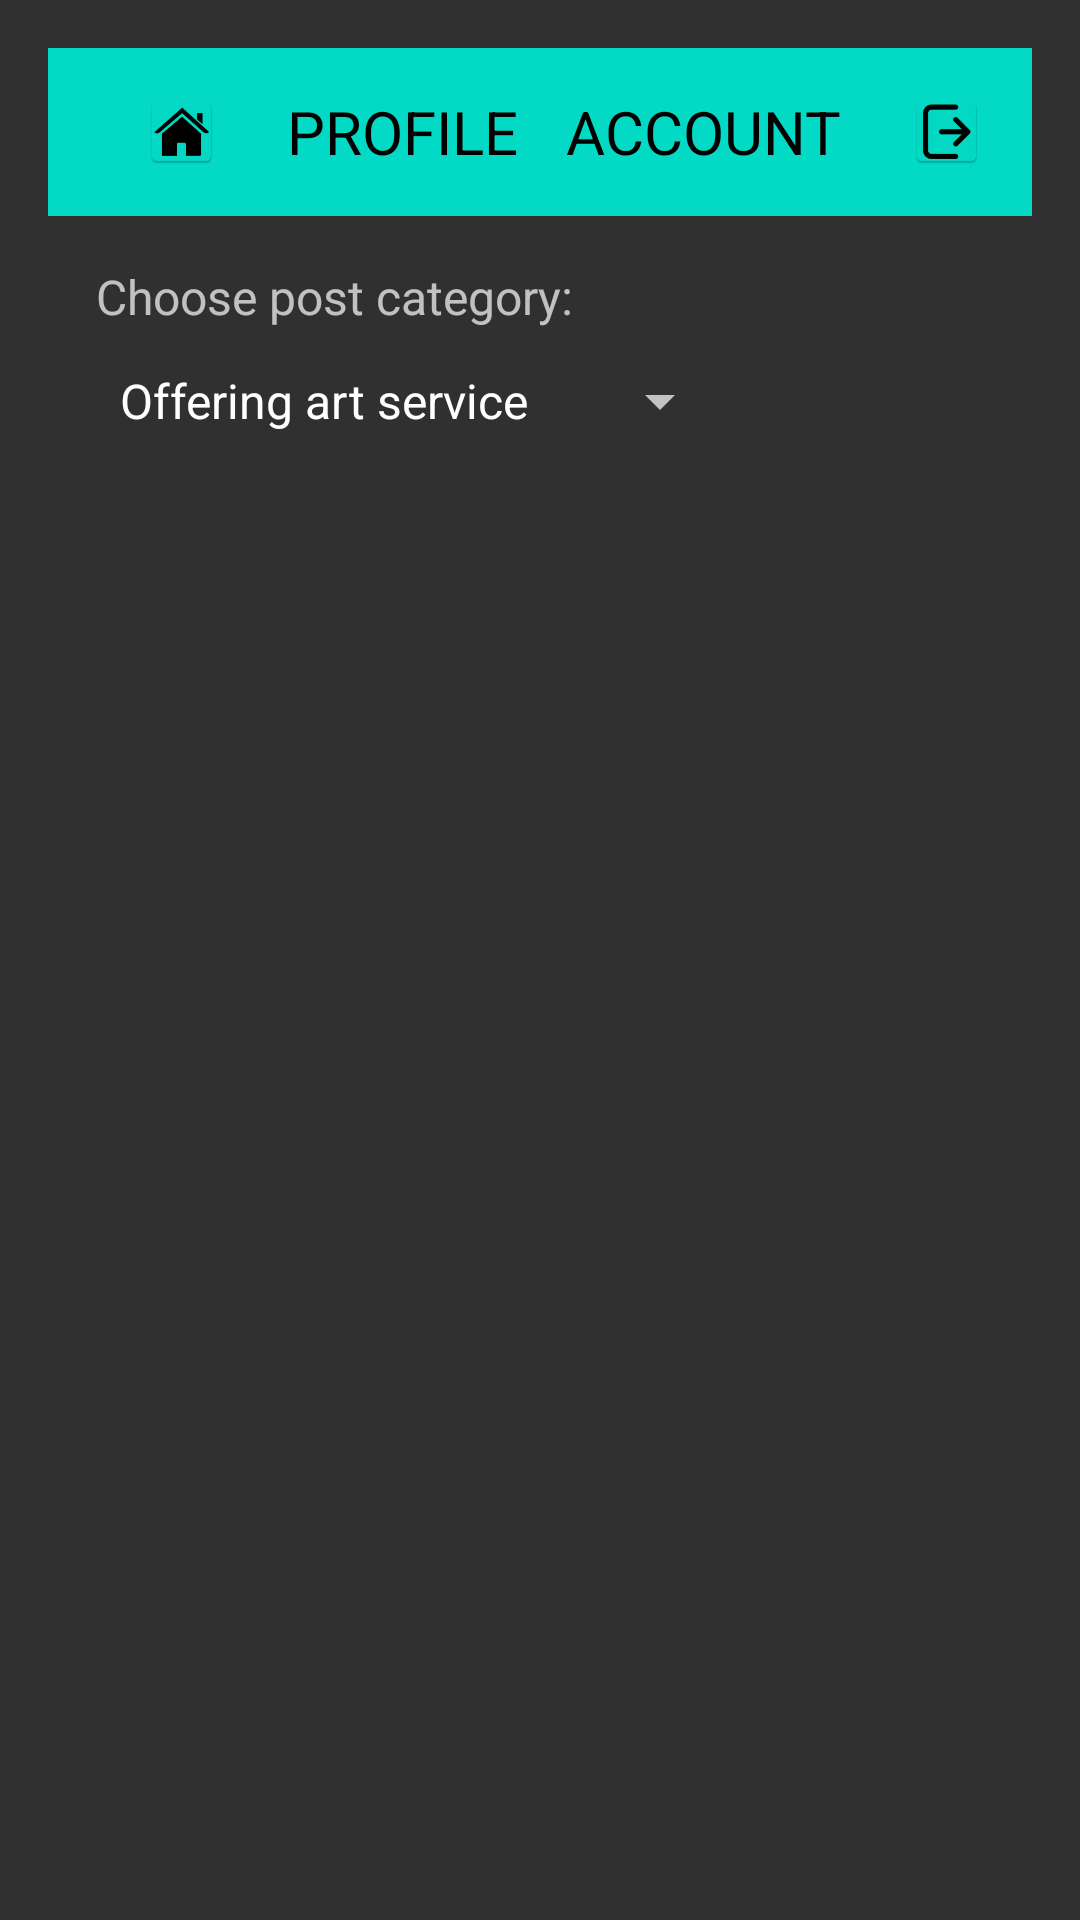

Named icons in this screenshot (1080 x 1920) and their centers, (x,y):
Go to MainActivity: (182,135)
